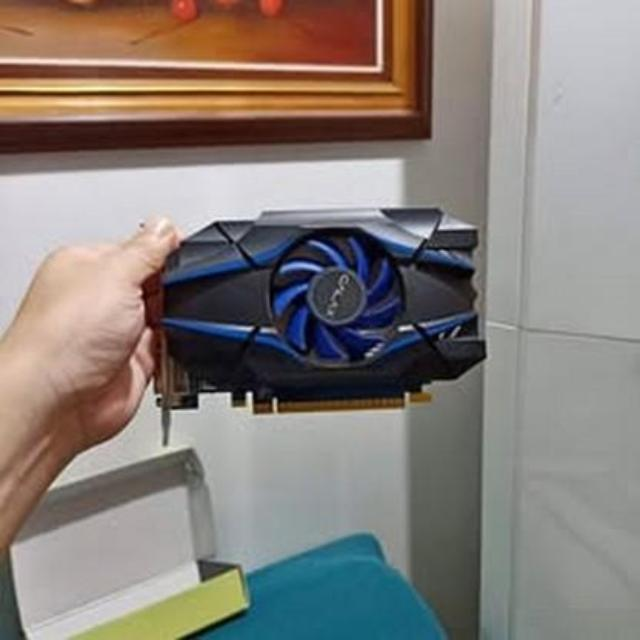GPU: (144, 210, 492, 408)
